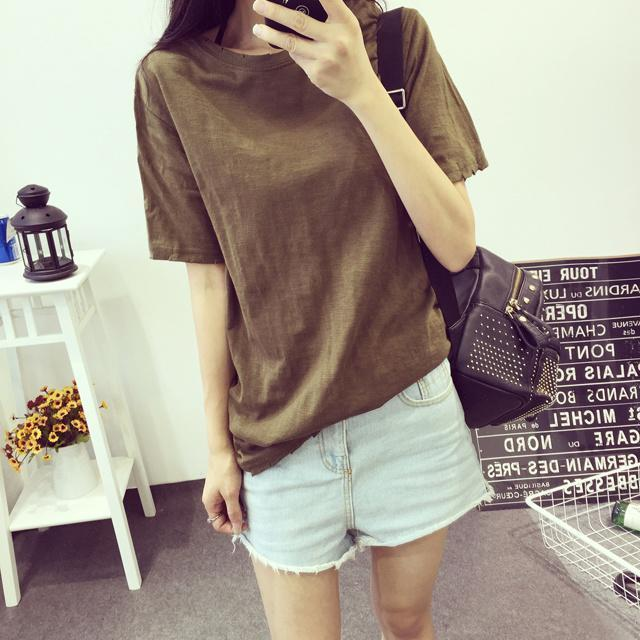short sleeve top: (139, 10, 489, 474)
shorts: (236, 352, 488, 559)
